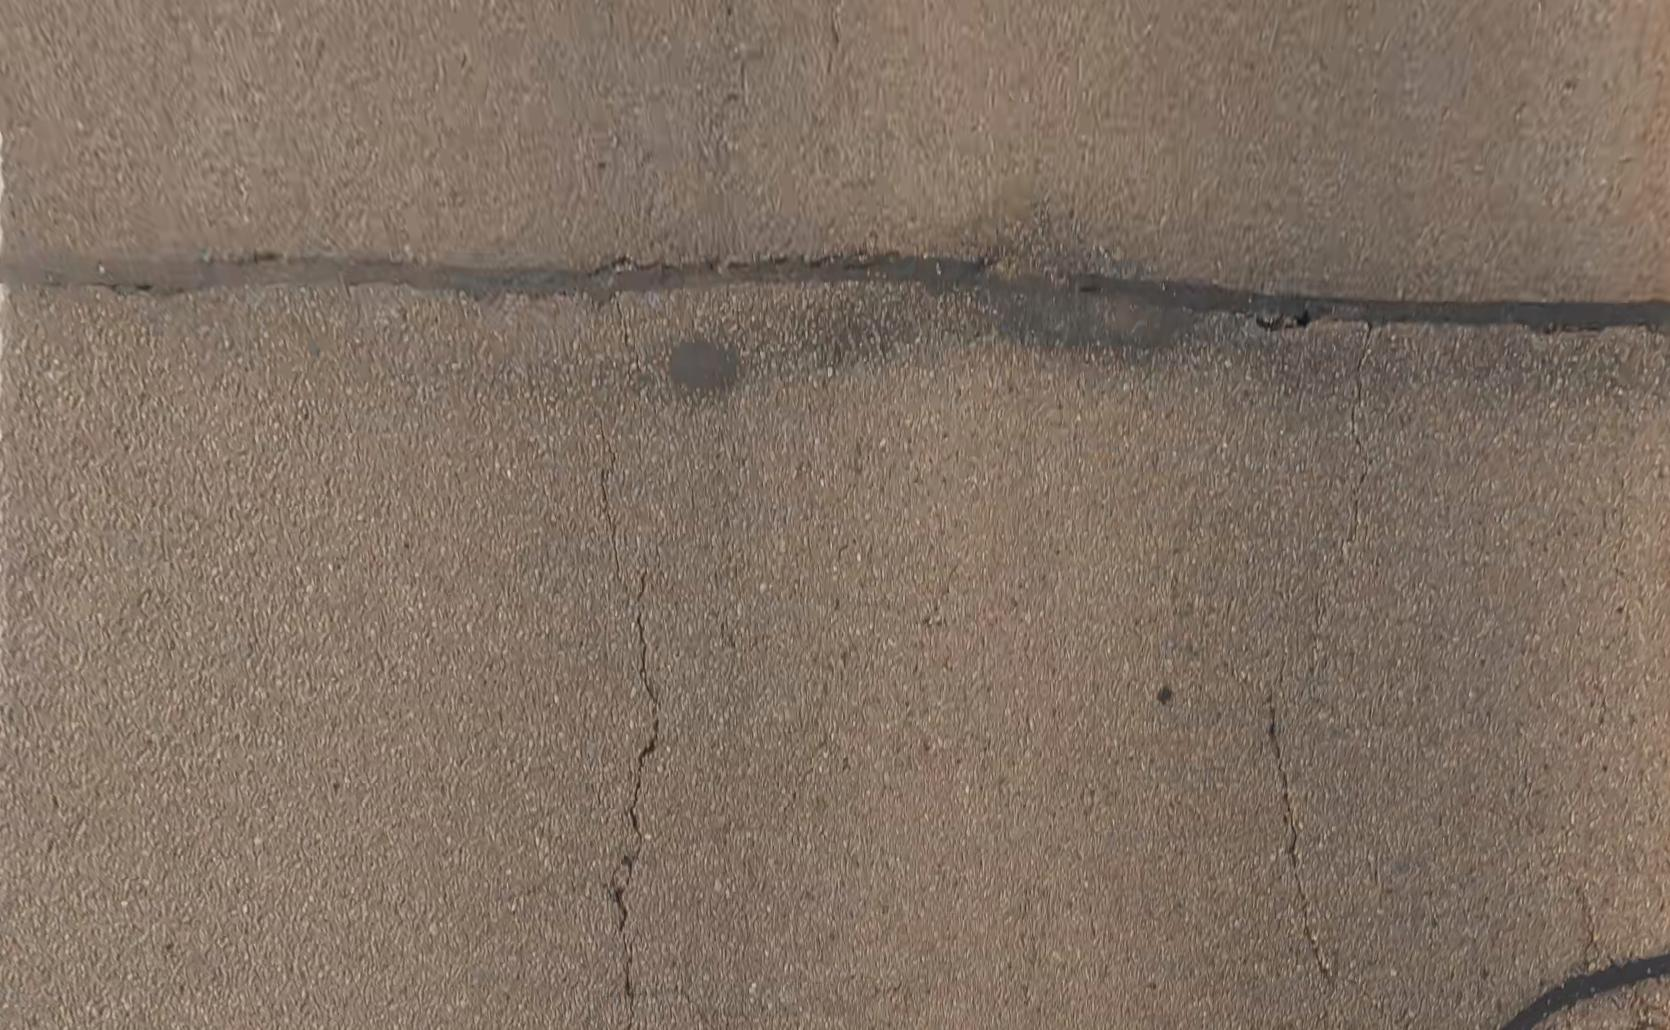pothole_patch_good: (663, 337, 755, 397)
pothole_patch_poor: (965, 261, 1218, 354)
